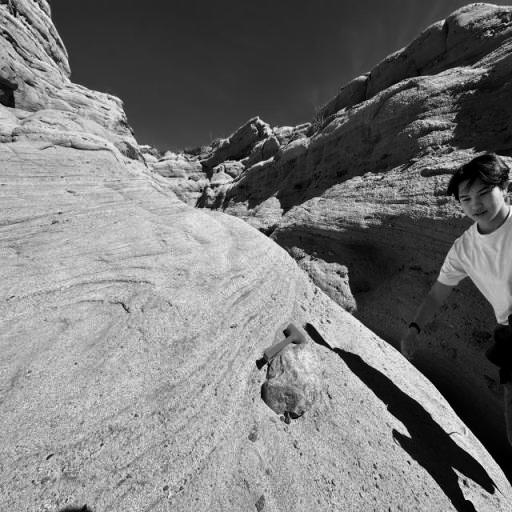mallet: (264, 323, 306, 362)
